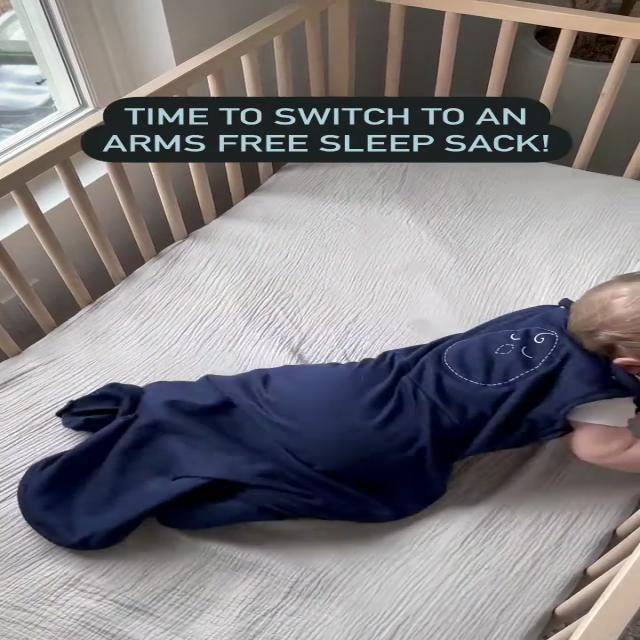baby: (37, 266, 640, 521)
